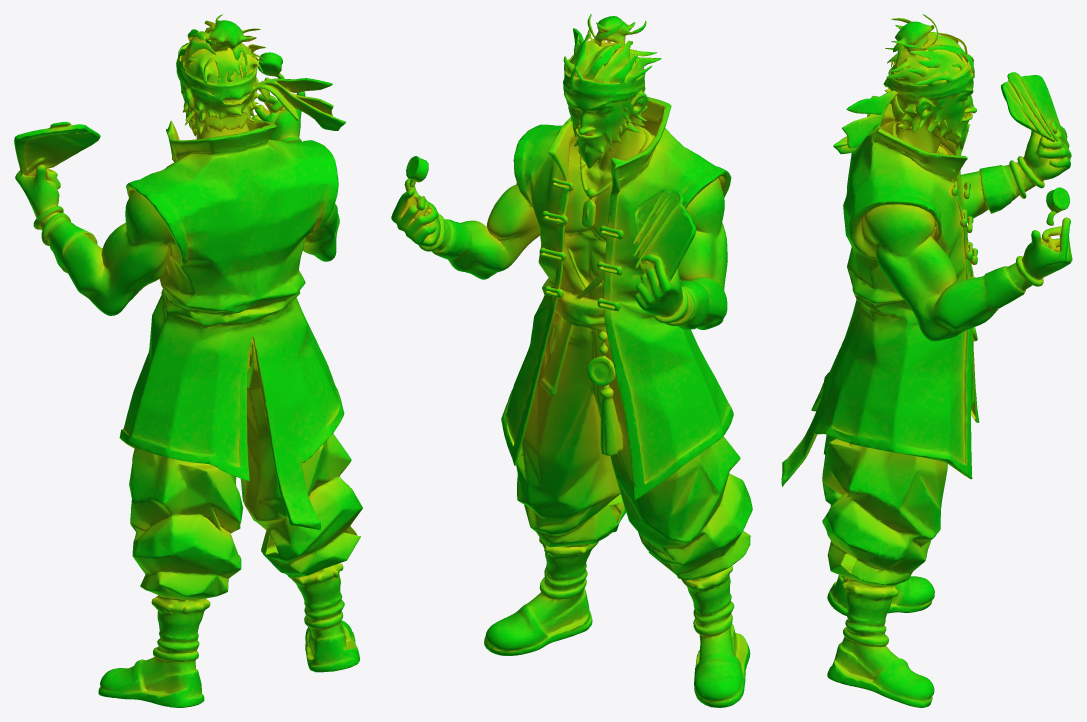
File: gambler_outline.fbx
3 renders of one model, left to right at view 1: azimuth 30°, elevation 25°; view 2: azimuth 150°, elevation 25°; view 3: azimuth 270°, elevation 25°, orthographic. The views are drawn at different scales.
Visible parts, largest first — view 1: gambler_outline; view 2: gambler_outline; view 3: gambler_outline.
Boxes of the visible parts, x1=… form: gambler_outline: x1=14, y1=14, x2=362, y2=707; gambler_outline: x1=391, y1=14, x2=752, y2=707; gambler_outline: x1=781, y1=14, x2=1072, y2=707.
Bounding box in the file's own units: 83.55 × 180 × 75.13.
